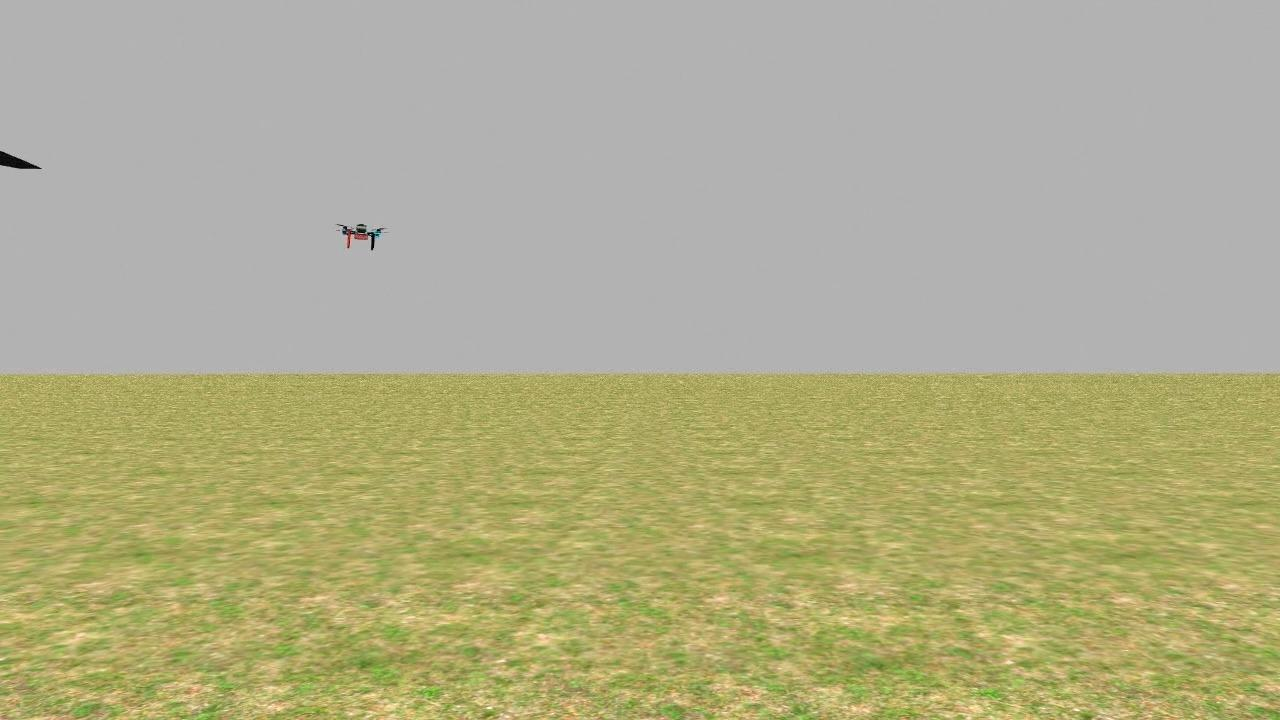UAV: (323, 212, 399, 262)
